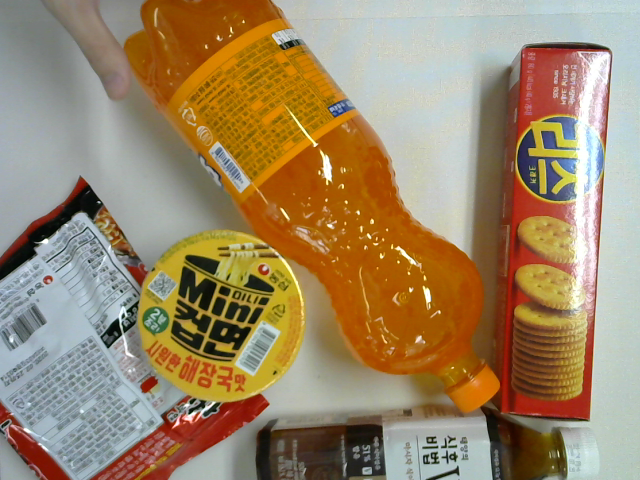Hejangmini: (136, 230, 307, 404)
Hwanta_Orange_1.5L: (122, 1, 501, 415)
Post-meal_recipe_W_tea_500ml: (253, 403, 601, 480)
Ritz_Cracker: (496, 43, 614, 426)
Sinramen: (1, 176, 270, 480)
